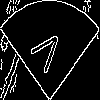V: (25, 25, 66, 81)
